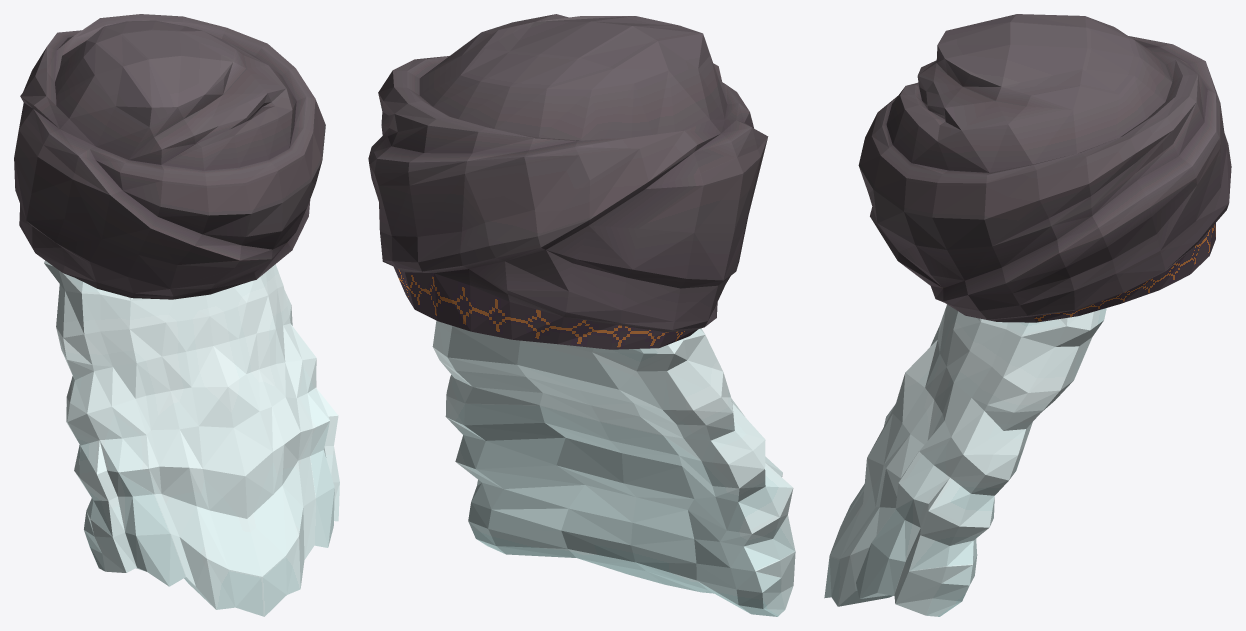
Rendered from CharSkyKid_Hair_AP06WizardHair_01.glb.
3 views of the same model, side by side, from view 1: azimuth 30°, elevation 25°; view 2: azimuth 150°, elevation 25°; view 3: azimuth 270°, elevation 25° (orthographic). The views are drawn at different scales.
Visible parts, largest first — view 1: CharSkyKid_Hair_AP06WizardHair_01; view 2: CharSkyKid_Hair_AP06WizardHair_01; view 3: CharSkyKid_Hair_AP06WizardHair_01.
Part boxes in pixels (bbox=[...]): CharSkyKid_Hair_AP06WizardHair_01: bbox=[14, 14, 339, 616]; CharSkyKid_Hair_AP06WizardHair_01: bbox=[368, 14, 795, 616]; CharSkyKid_Hair_AP06WizardHair_01: bbox=[824, 14, 1231, 616].
Bounding box in the file's own units: 3.95 × 7.05 × 4.65.
1 material, 1 textured.
